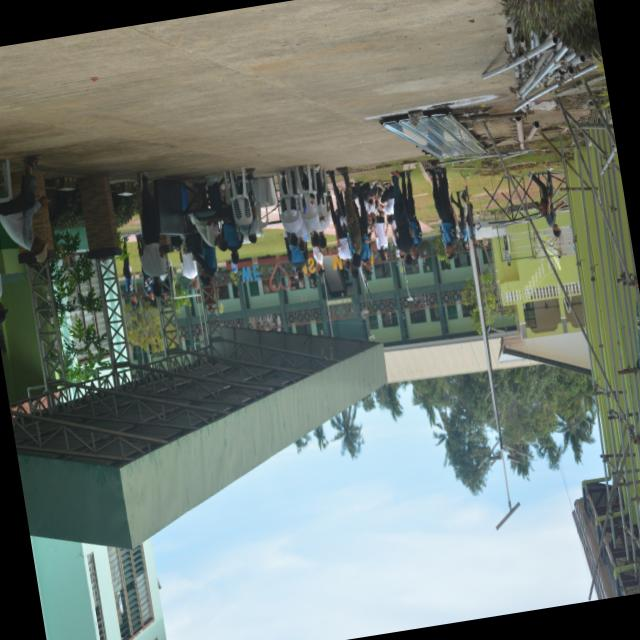person: (0, 154, 48, 261), (136, 172, 165, 295), (427, 167, 456, 258), (528, 168, 564, 236), (390, 170, 413, 265), (399, 169, 421, 258), (354, 181, 372, 274), (328, 193, 350, 269), (238, 168, 258, 242), (284, 231, 307, 280), (449, 191, 468, 250), (178, 234, 198, 289), (122, 236, 137, 305), (282, 197, 303, 245), (374, 212, 387, 260), (141, 269, 154, 301), (312, 246, 323, 276), (502, 235, 510, 265)
